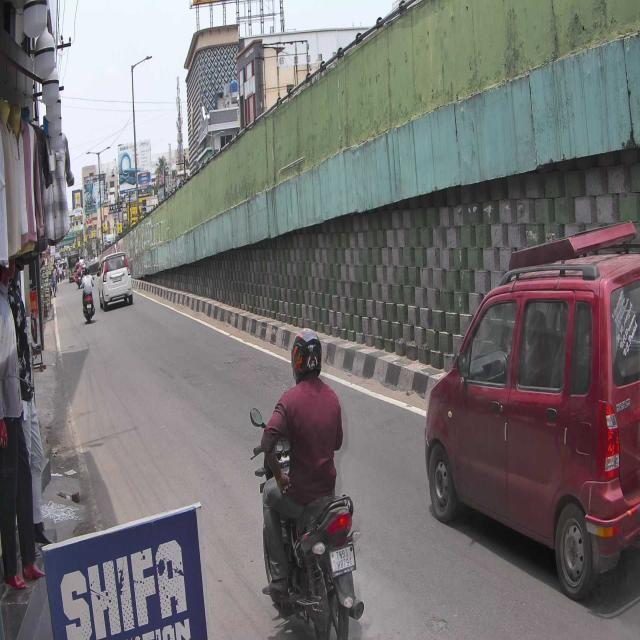single_rider: (250, 331, 363, 640)
